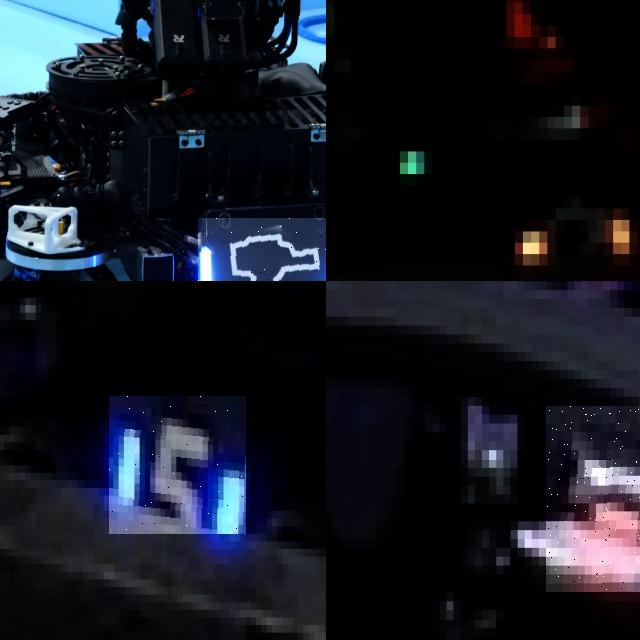B5: (109, 396, 246, 534)
Bs: (198, 217, 326, 281)
R1: (546, 405, 640, 592)
